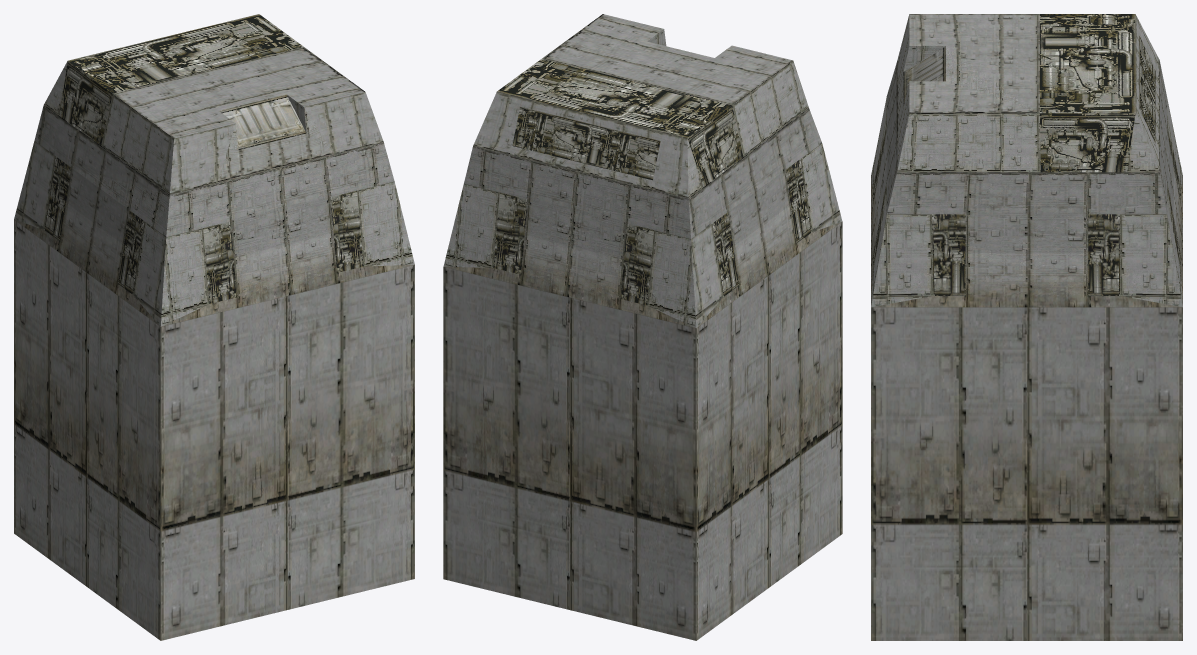
The model's file is ins_all_def_turret_m_s01_l2.fbx.
The picture shows the model from 3 angles, left to right: view 1: azimuth 30°, elevation 25°; view 2: azimuth 150°, elevation 25°; view 3: azimuth 270°, elevation 25°; orthographic projection. The views are drawn at different scales.
Visible parts, largest first — view 1: mesh_node; view 2: mesh_node; view 3: mesh_node.
Part boxes in pixels (<box>): mesh_node: <box>14,14,414,640</box>; mesh_node: <box>443,14,842,640</box>; mesh_node: <box>871,14,1182,640</box>.
Size of the model in its own units: 3.39 by 6.13 by 3.39.
